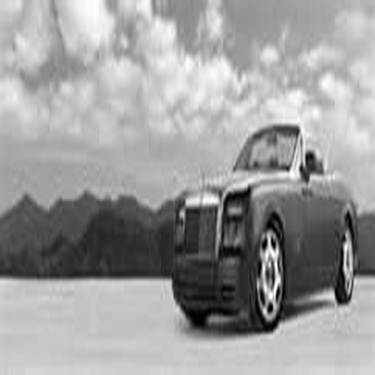car: (160, 125, 365, 329)
